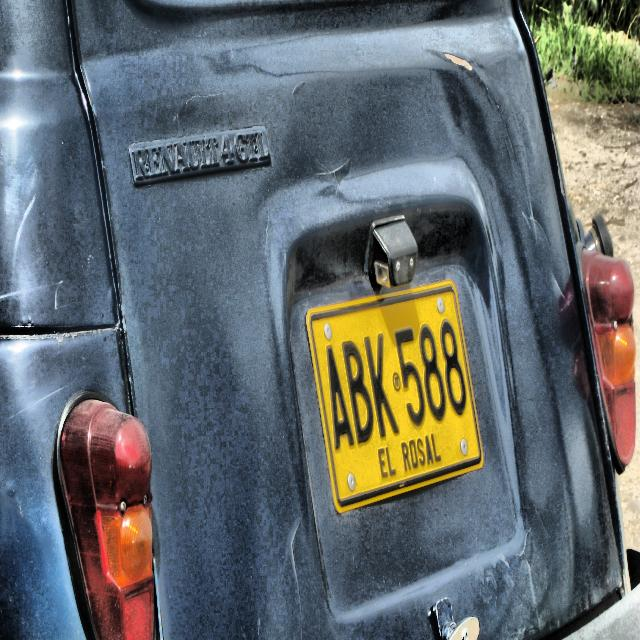plate: (306, 279, 484, 514)
